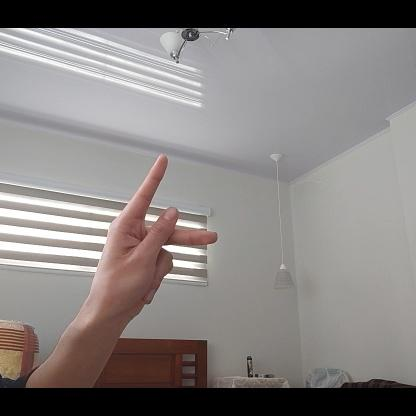K: (91, 154, 220, 326)
